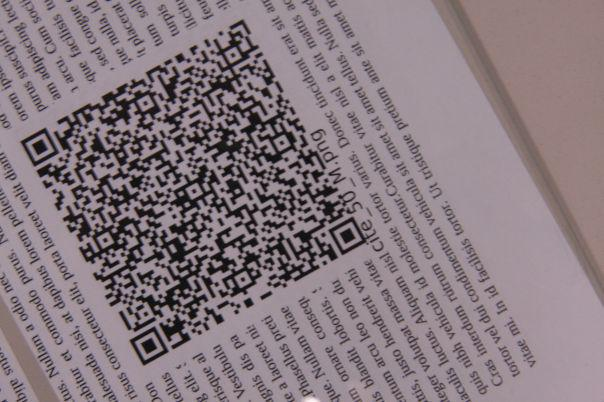Finder pattern: (129, 323, 170, 368), (20, 128, 60, 165), (330, 217, 367, 254)
